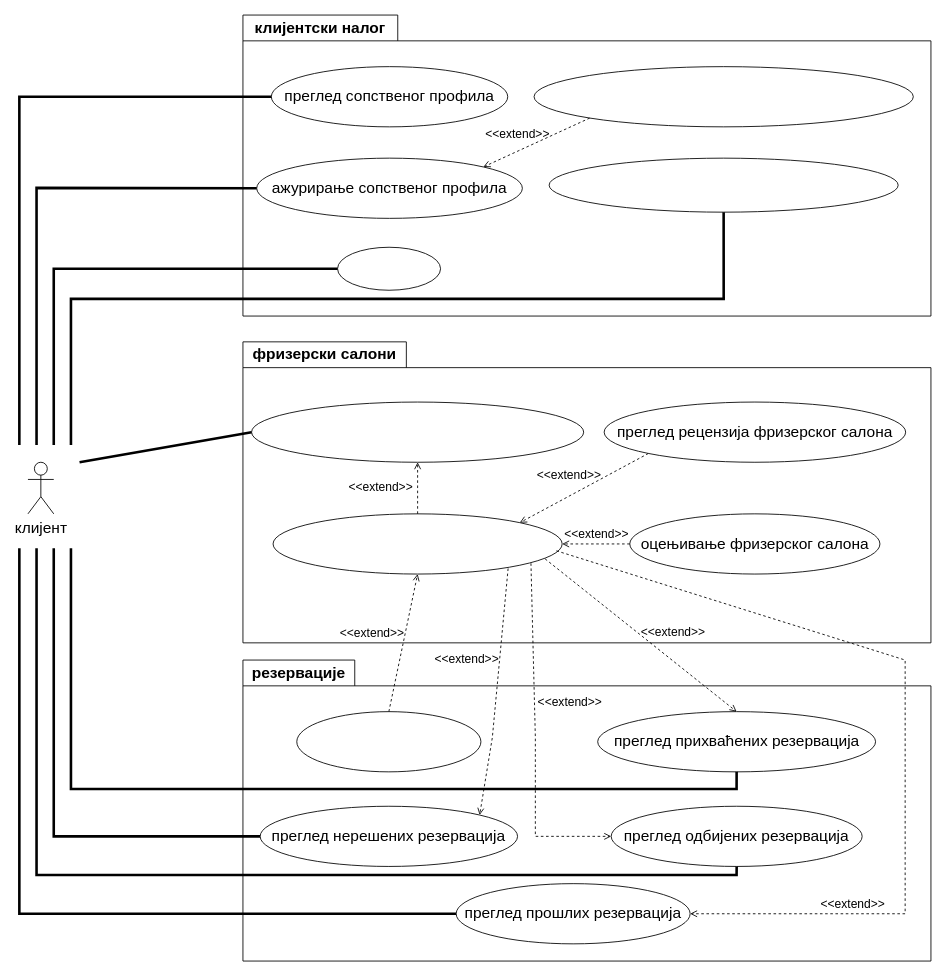
Image size: 946x976. Some labels were removed from this diagram. The box of each missing label's shape, as (x1, y1, x2, y2) in pixels:
креирање резервације: (296, 711, 481, 772)
одјава: (337, 246, 441, 290)
повезивање са Google налогом ( Google Sign-In): (533, 66, 913, 127)
преглед профила фризерског салона: (272, 513, 562, 574)
преглед сопствених остављених рецензија: (548, 157, 898, 212)
претрага и сортирање фризерских салона: (251, 401, 584, 462)
